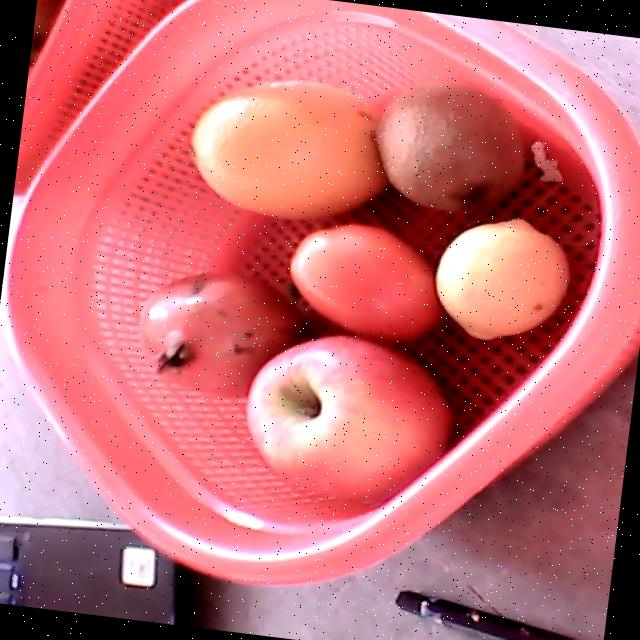apple: (246, 334, 450, 499)
kiwi: (374, 82, 521, 210)
lemon: (434, 217, 566, 336)
orange: (191, 78, 387, 217)
pomegranate: (138, 270, 298, 398)
tomato: (291, 222, 440, 339)
